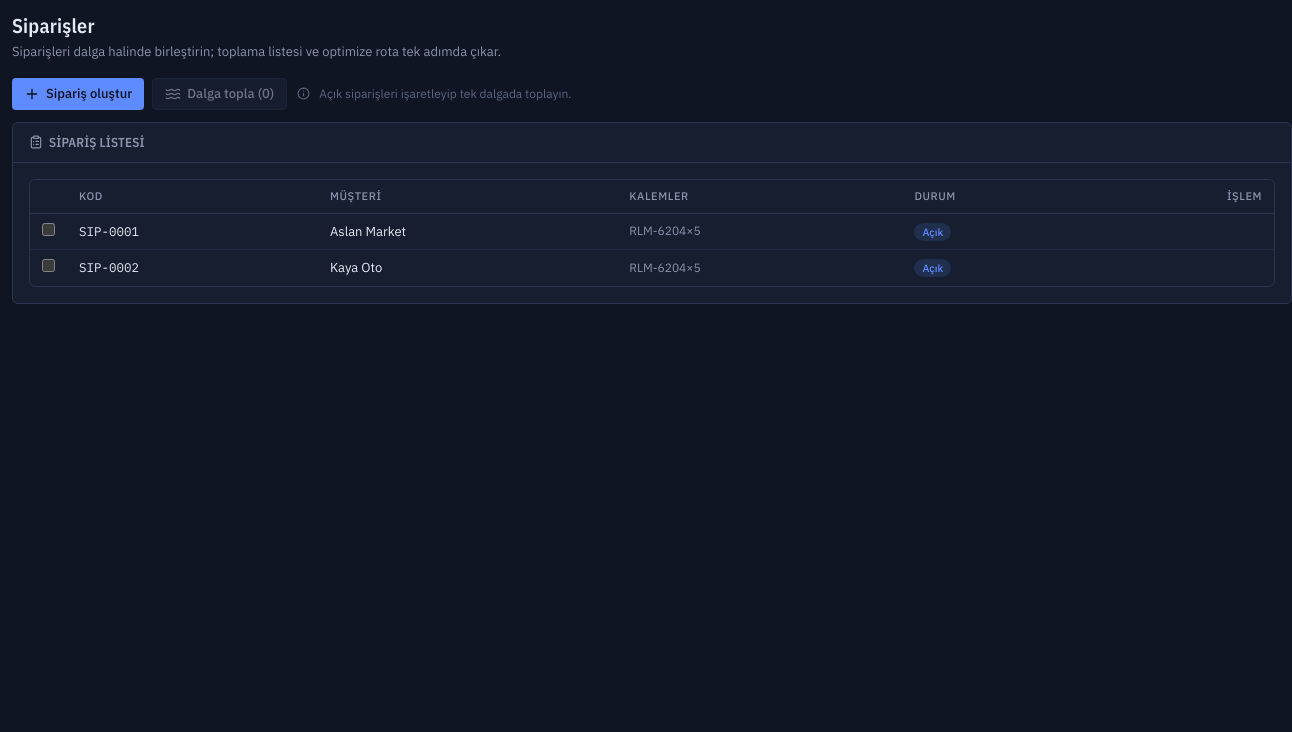
Scenario: OrdersPage › siparişleri listeler, dalga toplar ve yazdırılabilir liste üretir
Expected: the text "SIP-0001" is shown, [79,222,139,238]
Step 1. Click the checkbox named "SIP-0001 seç" → (48, 229), box [42,222,55,236]
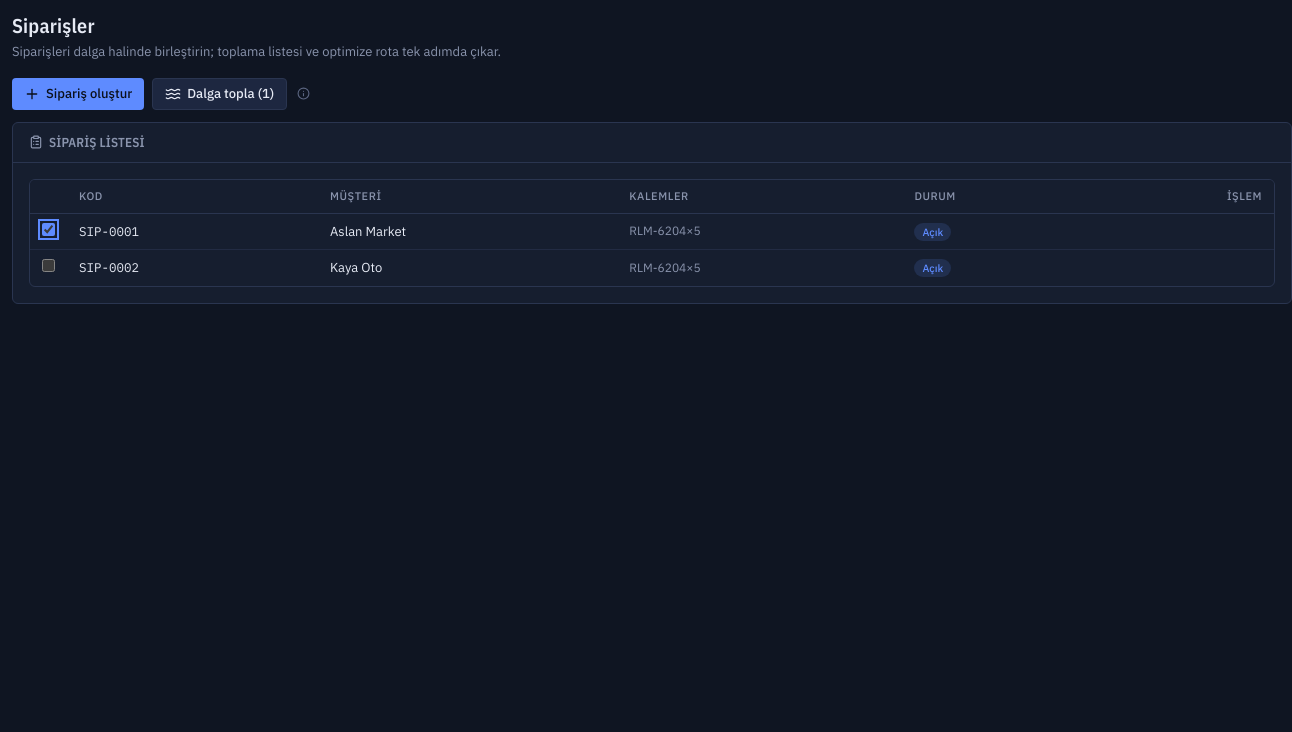
Step 2. Click the checkbox named "SIP-0002 seç" → (48, 266), box [42,259,55,272]
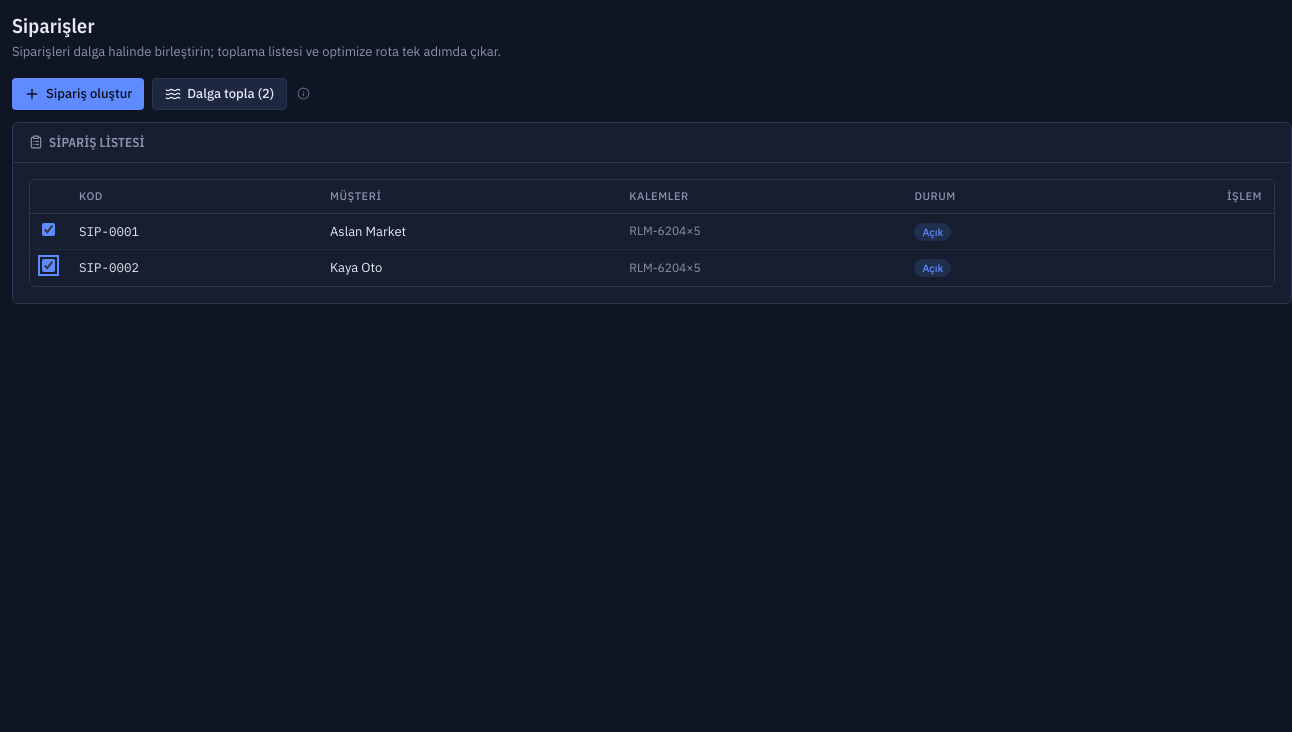
Step 3. Click the button "Dalga topla (2)" → (220, 94), box [152,78,287,110]
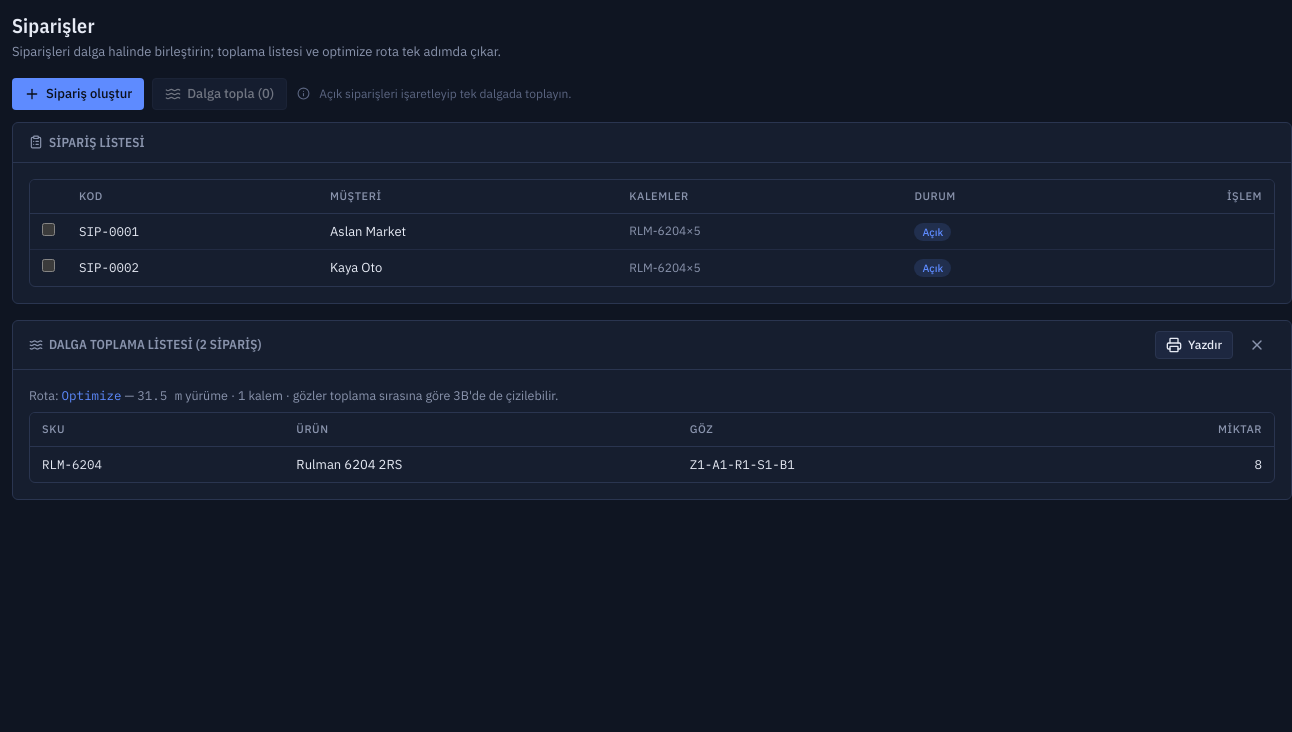
Now the element with test id "wave-result" shows "RLM-6204", box [42,456,102,472]
Now the element with test id "wave-result" shows "8", box [1254,456,1262,472]
Now the element with test id "wave-result" shows "Z1-A1-R1-S1-B1", box [690,456,795,472]
